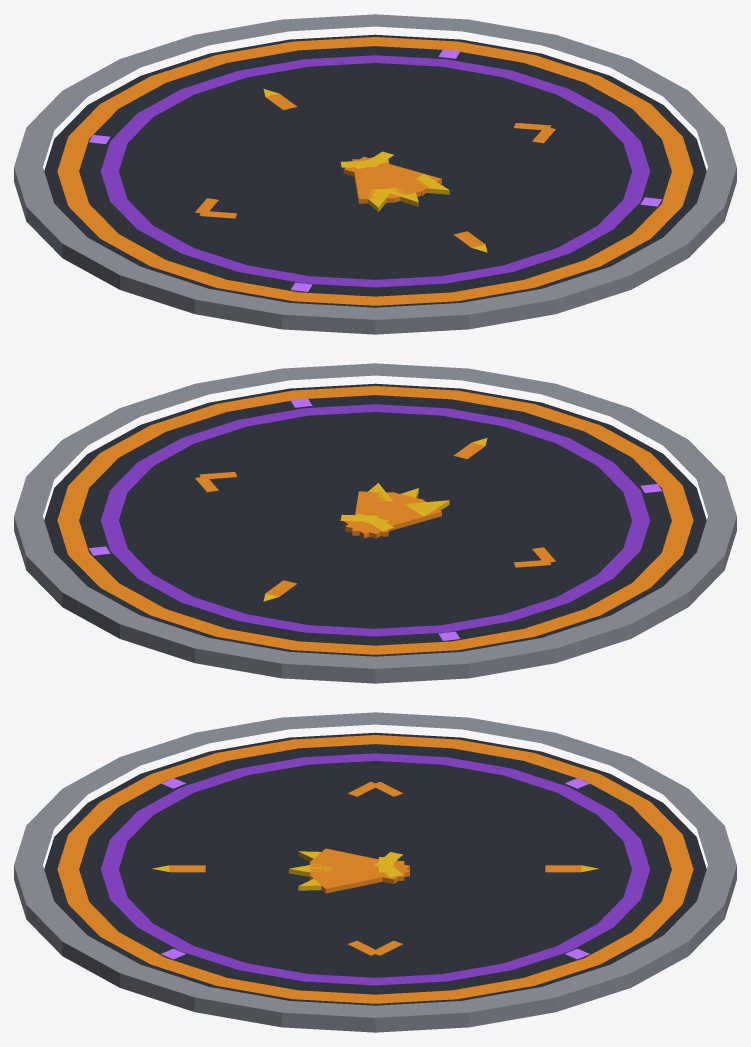
File: machine_gunner_rare_area.glb
3 views of the same model, one above another, from view 1: azimuth 30°, elevation 25°; view 2: azimuth 150°, elevation 25°; view 3: azimuth 270°, elevation 25° (orthographic).
Parts seen in each view (by area): view 1: machine_gunner_rare_area; view 2: machine_gunner_rare_area; view 3: machine_gunner_rare_area.
Boxes of the visible parts, <box> form: machine_gunner_rare_area: <box>14,14,736,334</box>; machine_gunner_rare_area: <box>14,363,736,683</box>; machine_gunner_rare_area: <box>14,712,736,1032</box>.
Size of the model in its own units: 2 by 0.046 by 2.
Materials: 2 (2 with a texture image).
